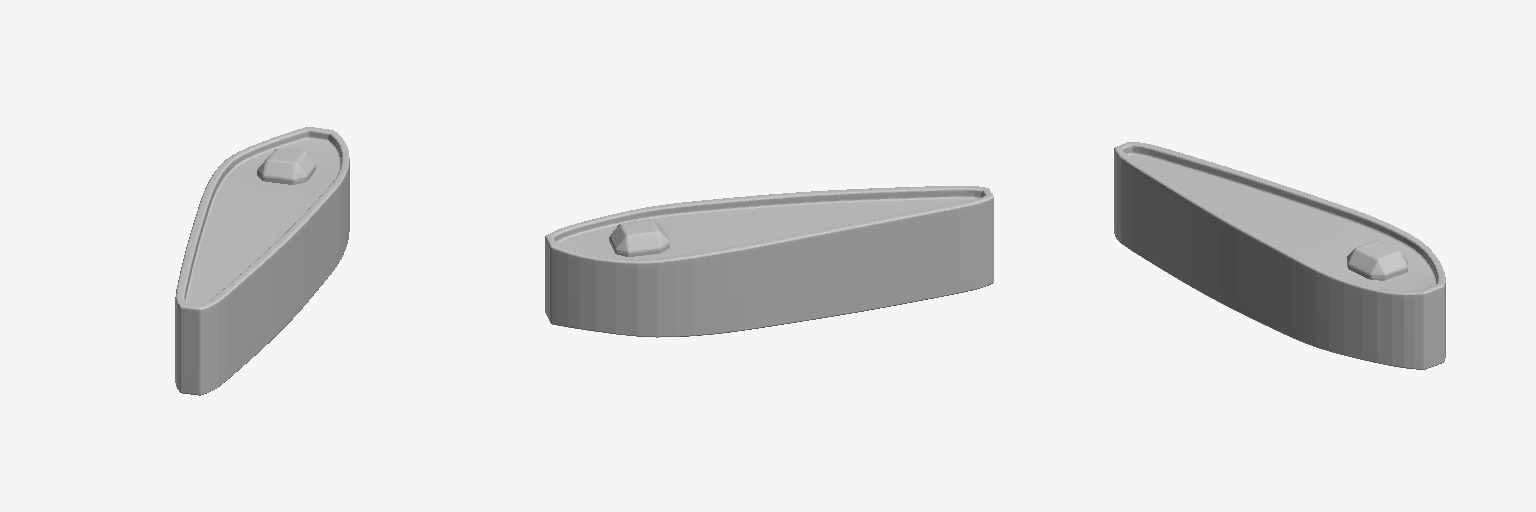
File: FlipperR.obj
The picture shows the model from 3 angles: view 1: azimuth 30°, elevation 25°; view 2: azimuth 150°, elevation 25°; view 3: azimuth 270°, elevation 25°; orthographic projection.
Visible parts, largest first — view 1: Cube.001; view 2: Cube.001; view 3: Cube.001.
Boxes of the visible parts, x1=… form: Cube.001: x1=175, y1=127, x2=349, y2=395; Cube.001: x1=545, y1=186, x2=993, y2=337; Cube.001: x1=1114, y1=142, x2=1445, y2=369.
Size of the model in its own units: 0.3681 by 0.1074 by 0.3505.